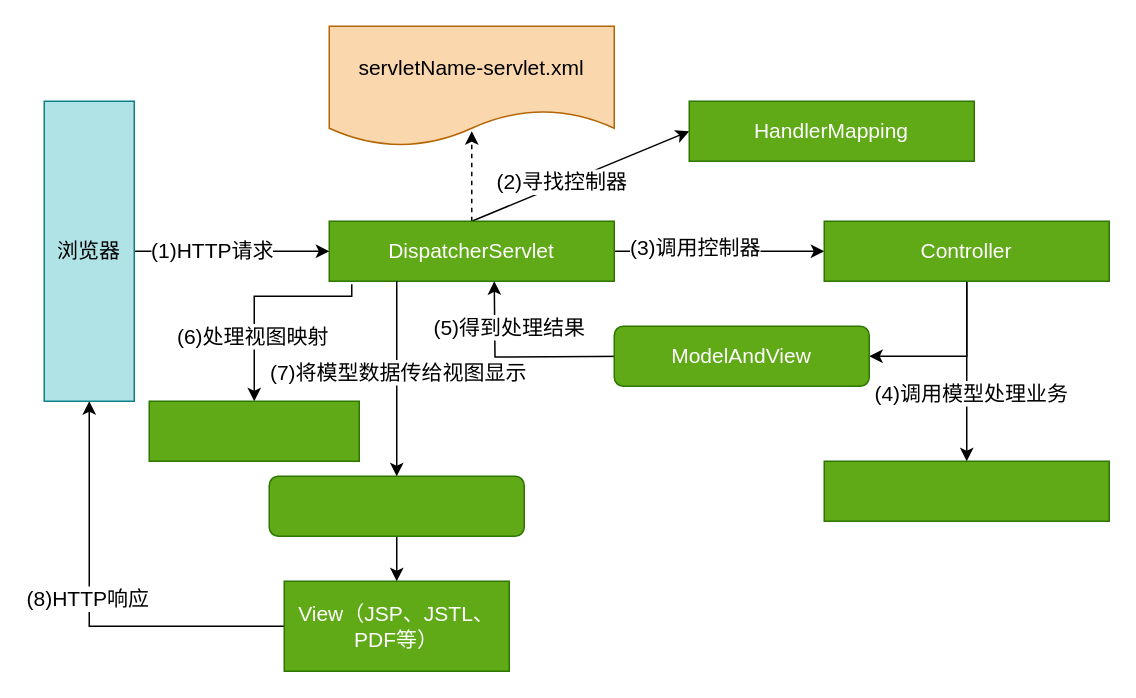
Some shapes in this 1136 by 698 pixel diagram are drawn without their labels. The shapes that lost their labels are listed below. From the top down, each one's box as (x1, y1, x2, y2) in pixels, then its label:
(148, 400, 359, 461): ViewResolver
(268, 475, 524, 536): Model
(823, 460, 1109, 521): XXXService
